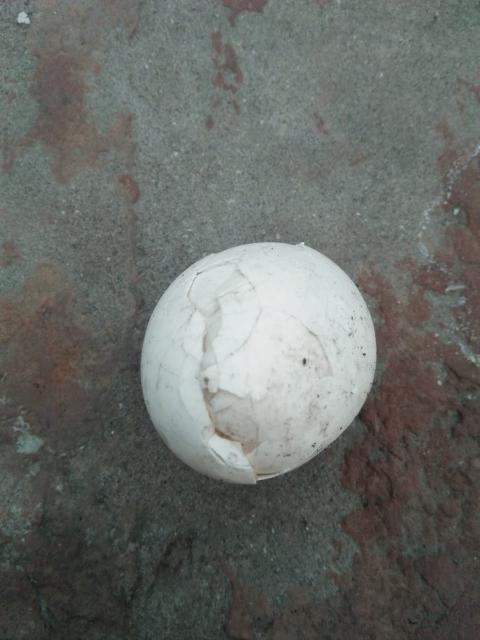Roto: (139, 240, 377, 486)
